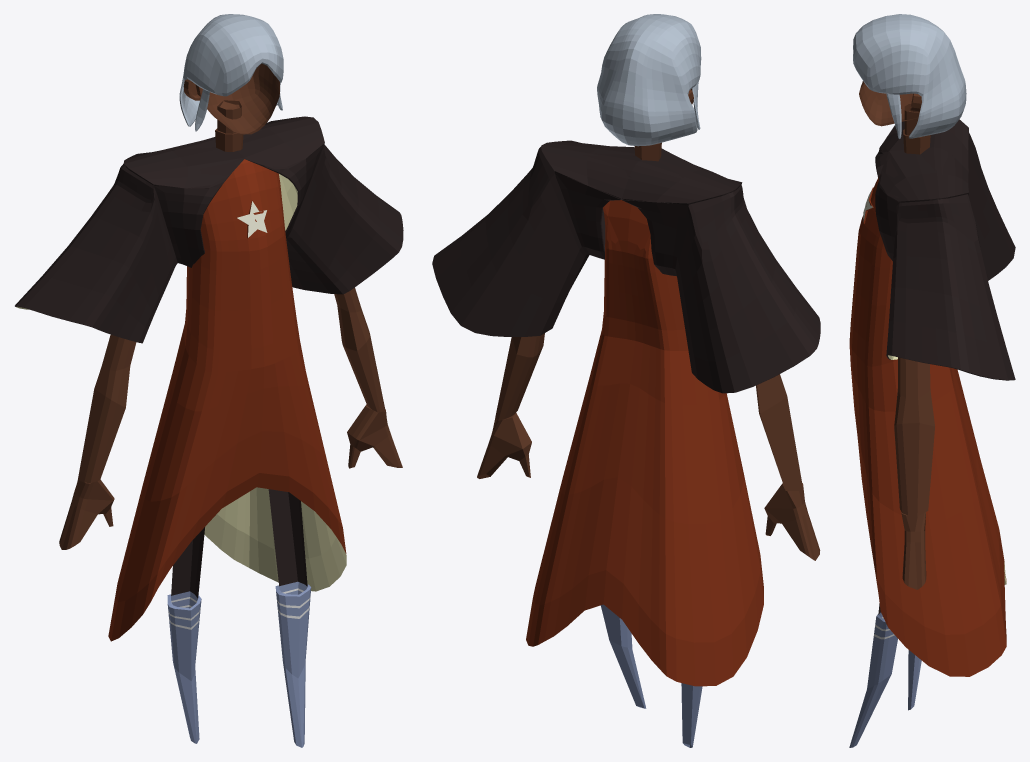
The model's file is yürüme - 2. adım.fbx.
3 renders of one model, left to right at view 1: azimuth 30°, elevation 25°; view 2: azimuth 150°, elevation 25°; view 3: azimuth 270°, elevation 25°, orthographic.
Visible parts, largest first — view 1: Circle, Cylinder.002, Cube.004, Cube.003, Cylinder.004, Cylinder, Cube.001, Cylinder.003; view 2: Circle, Cylinder.002, Cube.003, Cube.004, Cylinder.004, Cylinder; view 3: Circle, Cylinder.002, Cube.003, Cube.004, Cylinder.004, Cube.001, Cylinder.003, Cylinder.
Boxes of the visible parts, box(x1,y1,x2,y2) form: Circle: box(108, 159, 346, 641); Cylinder.002: box(15, 116, 403, 343); Cube.004: box(59, 287, 402, 549); Cube.003: box(179, 14, 283, 131); Cylinder.004: box(268, 489, 311, 747); Cylinder: box(167, 527, 204, 743); Cube.001: box(200, 63, 279, 134); Cylinder.003: box(215, 100, 243, 151); Circle: box(526, 200, 763, 686); Cylinder.002: box(432, 140, 820, 393); Cube.003: box(597, 14, 701, 146); Cube.004: box(477, 333, 820, 560); Cylinder.004: box(600, 604, 646, 708); Cylinder: box(681, 683, 702, 747); Circle: box(849, 175, 1006, 676); Cylinder.002: box(875, 119, 1015, 380); Cube.003: box(853, 14, 966, 138); Cube.004: box(894, 357, 934, 589); Cylinder.004: box(849, 603, 897, 747); Cube.001: box(859, 81, 919, 126); Cylinder.003: box(903, 104, 930, 154); Cylinder: box(908, 650, 921, 710).
Bounding box in the file's own units: 235 × 421 × 89.38.
